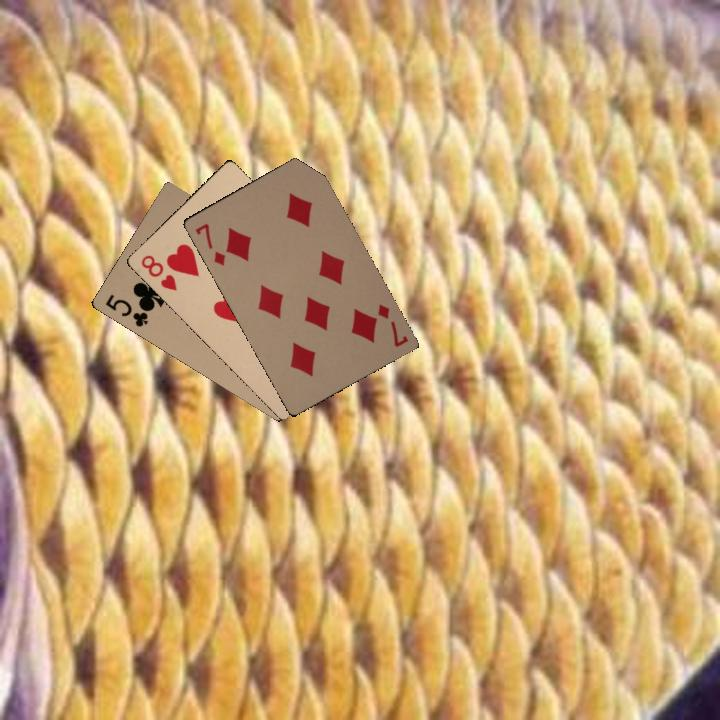5c: (101, 290, 151, 330)
7d: (374, 300, 411, 350), (191, 219, 228, 268)
8h: (137, 251, 180, 293)
